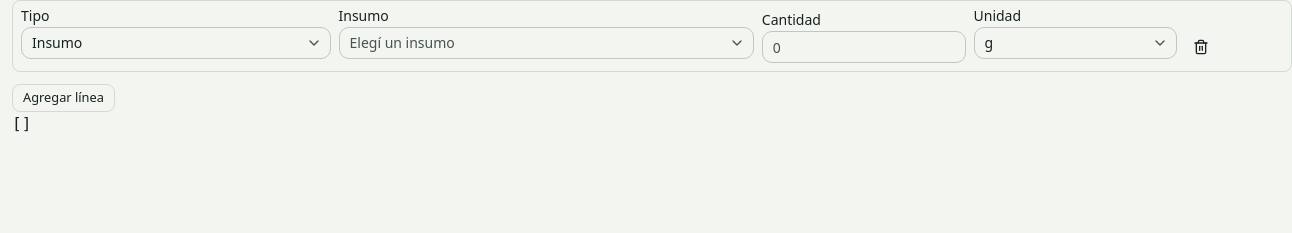
Test: ComponentLinesEditor › «Agregar línea» agrega una fila más, y «Quitar línea» la saca
The image size is (1292, 233).
Click the button "Agregar línea" at (63, 98), box left=12, top=84, right=115, bottom=112
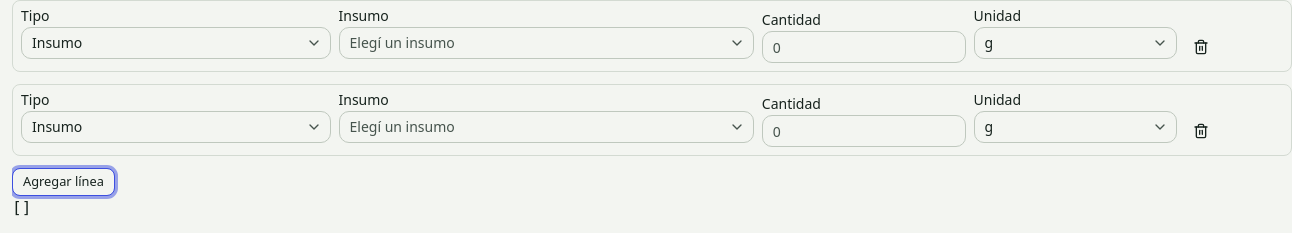
Expected: the number of fields labelled "Cantidad" is 2, left=762, top=31, right=966, bottom=63; left=762, top=115, right=966, bottom=147
Click the 1st button named "Quitar línea" at (1201, 47), box left=1185, top=31, right=1217, bottom=63
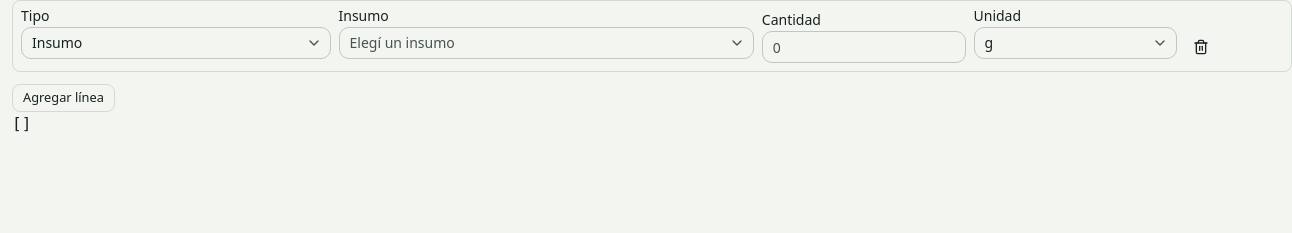
Expected: the number of fields labelled "Cantidad" is 1, left=762, top=31, right=966, bottom=63
